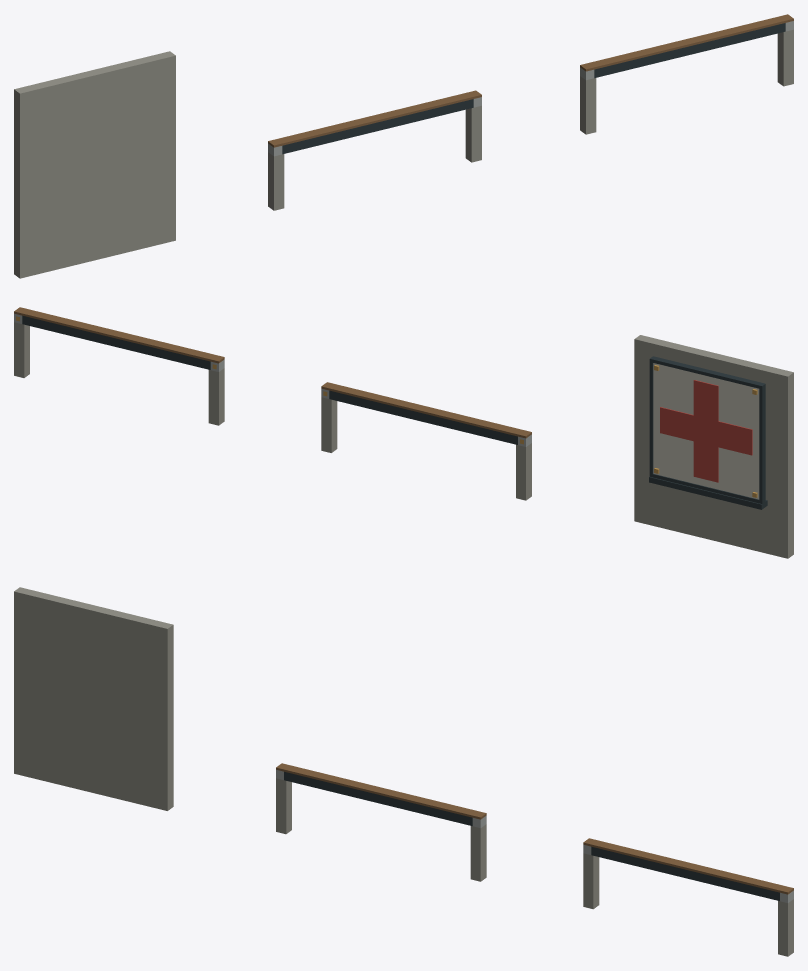
3 views of the same model, one above another, from view 1: azimuth 30°, elevation 25°; view 2: azimuth 150°, elevation 25°; view 3: azimuth 330°, elevation 25° (orthographic).
Visible parts, largest first — view 1: 安装试验墙，不计入清单, 共享交通护栏横杆 (×2), 横杆安装试验托架，不计入清单 (×4); view 2: 安装试验墙，不计入清单, 旧医馆红十字外墙标识, 共享交通护栏横杆 (×2), 横杆安装试验托架，不计入清单 (×4); view 3: 安装试验墙，不计入清单, 共享交通护栏横杆 (×2), 横杆安装试验托架，不计入清单 (×4).
Boxes of the visible parts, bbox=[...] form: 安装试验墙，不计入清单: bbox=[14, 51, 175, 278]; 共享交通护栏横杆 (×2): bbox=[268, 14, 793, 156]; 横杆安装试验托架，不计入清单 (×4): bbox=[268, 29, 793, 210]; 安装试验墙，不计入清单: bbox=[634, 335, 793, 558]; 旧医馆红十字外墙标识: bbox=[649, 356, 765, 503]; 共享交通护栏横杆 (×2): bbox=[14, 307, 531, 446]; 横杆安装试验托架，不计入清单 (×4): bbox=[14, 322, 531, 500]; 安装试验墙，不计入清单: bbox=[14, 587, 173, 810]; 共享交通护栏横杆 (×2): bbox=[276, 763, 793, 902]; 横杆安装试验托架，不计入清单 (×4): bbox=[276, 778, 793, 956].
Size of the model in its own units: 15 by 3.4 by 0.4.
Materials: 7 (7 with a texture image).
